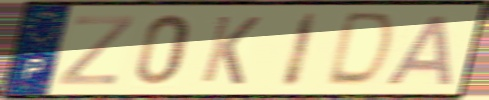0: (131, 11, 193, 89)
A: (383, 13, 457, 88)
D: (321, 10, 399, 91)
I: (278, 10, 322, 91)
K: (197, 13, 264, 87)
Z: (54, 14, 138, 88)
